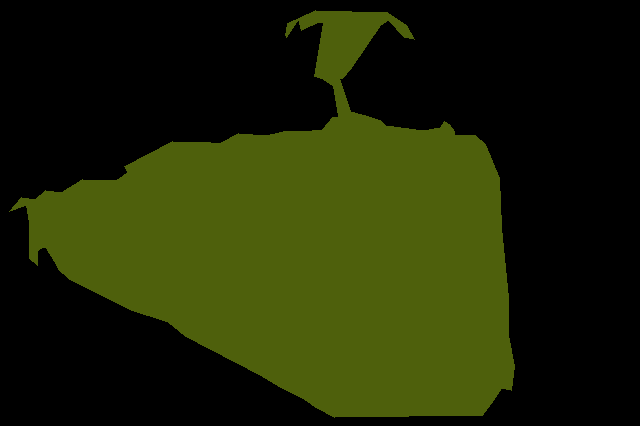Train: (9, 10, 514, 417)
